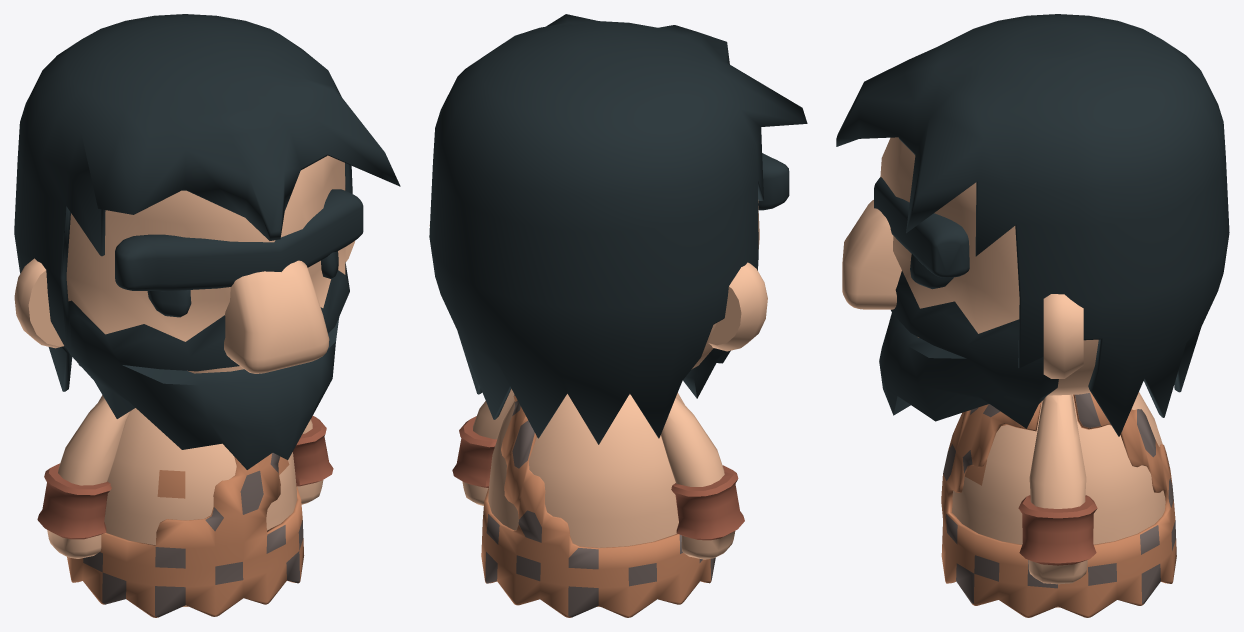
Rendered from Neandertal.fbx.
3 renders of one model, left to right at view 1: azimuth 30°, elevation 25°; view 2: azimuth 150°, elevation 25°; view 3: azimuth 270°, elevation 25°, orthographic.
Parts seen in each view (by area): view 1: character_barbarianHead, character_barbarianHead.001, character_barbarianBody.001, character_barbarianBody, character_barbarianArmLeft; view 2: character_barbarianHead.001, character_barbarianBody.001, character_barbarianBody, character_barbarianArmLeft, character_barbarianHead; view 3: character_barbarianHead.001, character_barbarianHead, character_barbarianBody.001, character_barbarianBody, character_barbarianArmLeft.
Boxes of the visible parts, left/top/right/bottom form: character_barbarianHead: left=14, top=155, right=363, bottom=469; character_barbarianHead.001: left=14, top=14, right=400, bottom=391; character_barbarianBody.001: left=67, top=453, right=304, bottom=617; character_barbarianBody: left=98, top=395, right=297, bottom=606; character_barbarianArmLeft: left=37, top=397, right=333, bottom=558; character_barbarianHead.001: left=429, top=14, right=807, bottom=444; character_barbarianBody.001: left=481, top=394, right=715, bottom=617; character_barbarianBody: left=488, top=392, right=684, bottom=606; character_barbarianArmLeft: left=452, top=389, right=744, bottom=559; character_barbarianHead: left=429, top=153, right=789, bottom=398; character_barbarianHead.001: left=836, top=14, right=1229, bottom=436; character_barbarianHead: left=842, top=137, right=1098, bottom=428; character_barbarianBody.001: left=941, top=392, right=1176, bottom=617; character_barbarianBody: left=951, top=392, right=1165, bottom=607; character_barbarianArmLeft: left=1018, top=394, right=1097, bottom=584.
Size of the model in its own units: 118 by 177 by 119.
